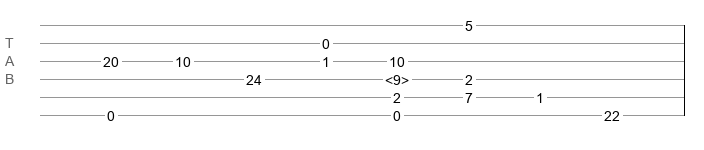0: (107, 108, 115, 118), (322, 36, 330, 46), (393, 108, 401, 118)
1: (322, 54, 330, 64), (536, 90, 544, 100)
10: (175, 54, 191, 64), (389, 54, 405, 64)
2: (393, 90, 401, 100), (465, 72, 473, 82)
20: (103, 54, 119, 64)
22: (604, 108, 620, 118)
24: (246, 72, 262, 82)
5: (465, 18, 473, 28)
7: (465, 90, 473, 100)
harmonic: (385, 72, 409, 82)
